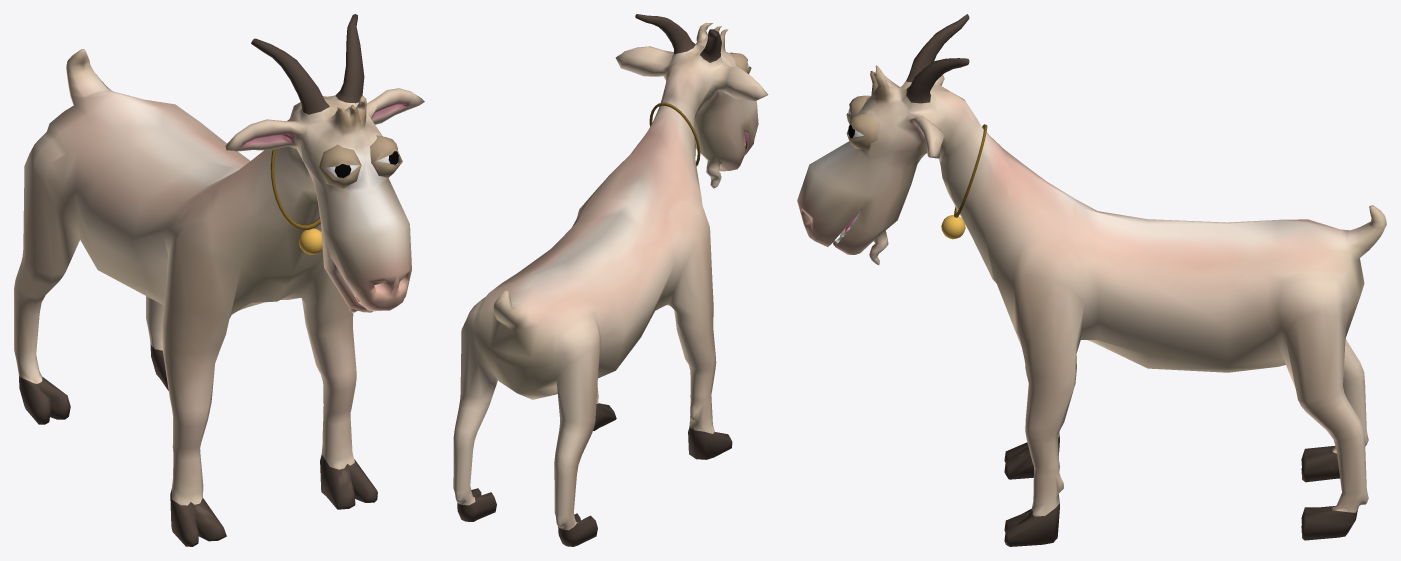
File: goat part 5.fbx
3 renders of one model, left to right at view 1: azimuth 30°, elevation 25°; view 2: azimuth 150°, elevation 25°; view 3: azimuth 270°, elevation 25°, orthographic. The views are drawn at different scales.
Visible parts, largest first — view 1: Goat; view 2: Goat; view 3: Goat.
Boxes of the visible parts, x1,y1,x2,y2 form: Goat: (14,14,424,546); Goat: (453,14,768,546); Goat: (797,14,1386,546).
Size of the model in its own units: 126 by 313 by 357.
Materials: 1 (1 with a texture image).
